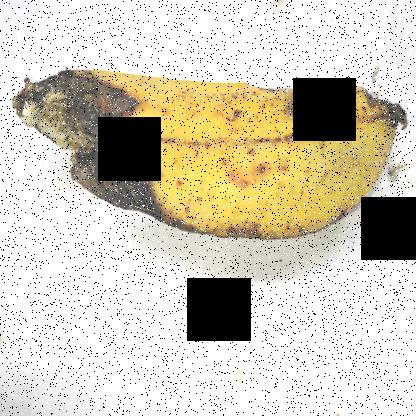rotten: (14, 52, 173, 287), (274, 50, 410, 160)
